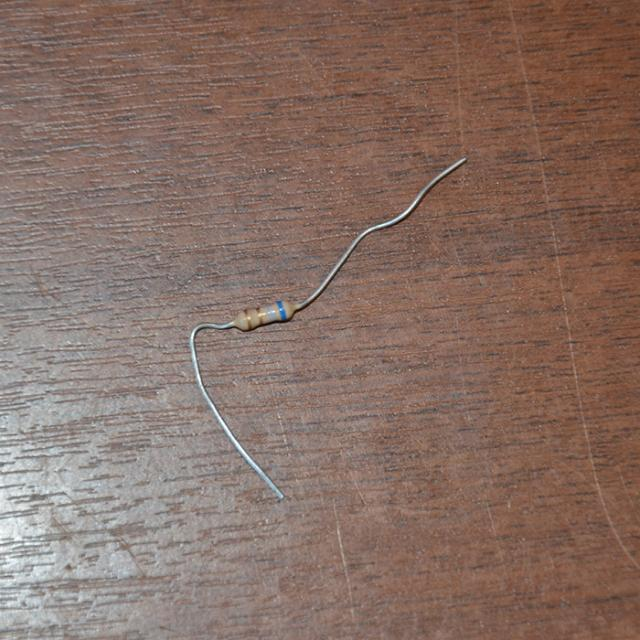blue: (277, 302, 287, 318)
gold: (244, 310, 252, 329), (256, 307, 263, 324)
grey: (267, 306, 275, 320)
resistor: (227, 300, 290, 334)
